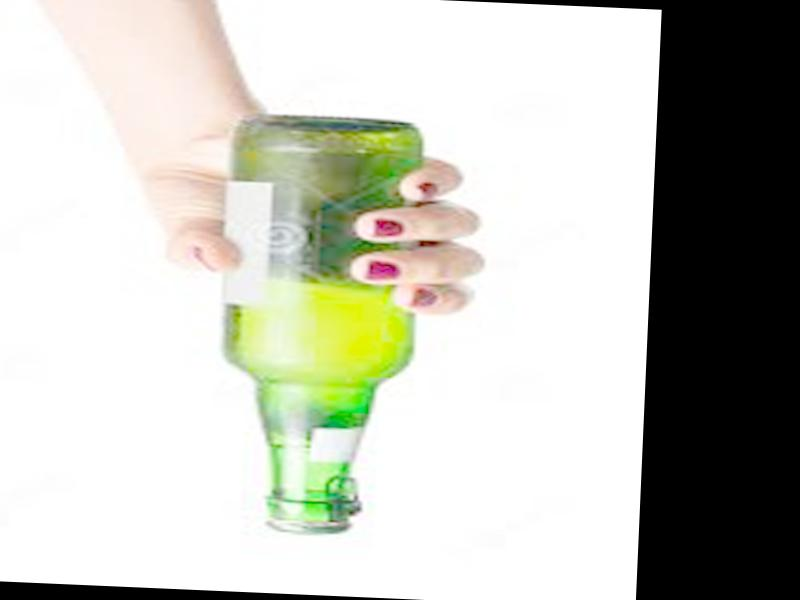Beer: (206, 111, 424, 541)
